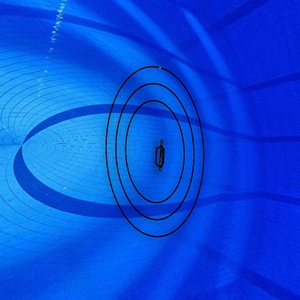circle: (104, 64, 209, 239)
submarine: (152, 137, 170, 174)
